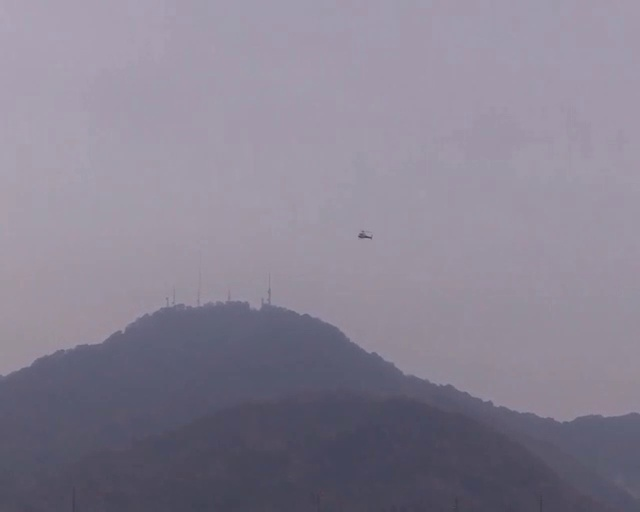HELICOPTER: (358, 229, 373, 239)
